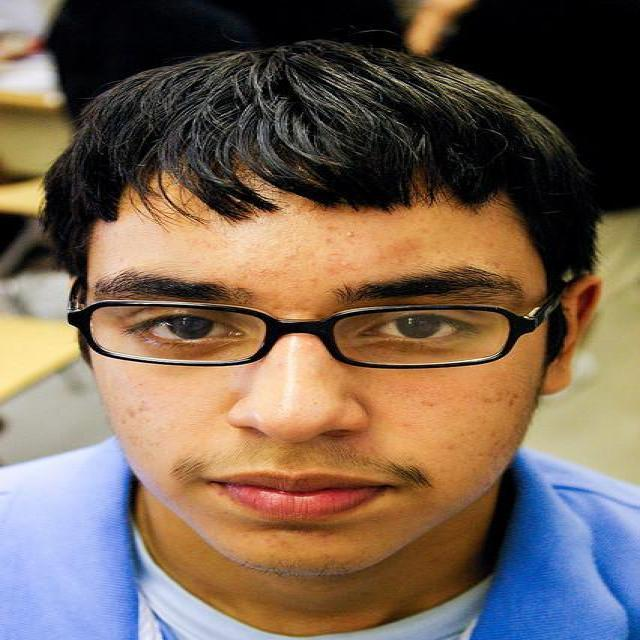no-glass: (106, 303, 492, 355)
